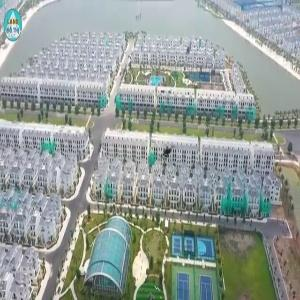drone: (134, 122, 200, 188)
